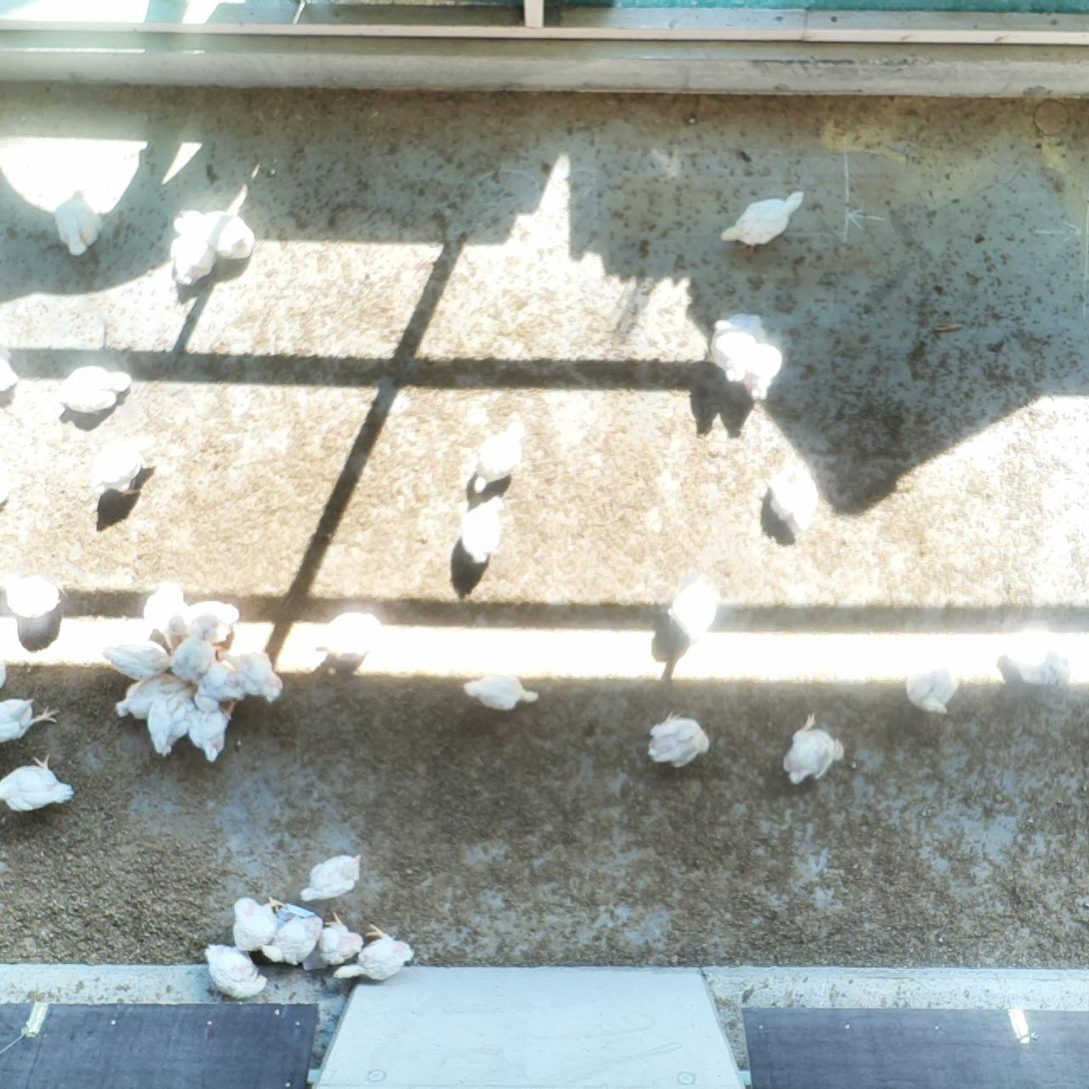chicken: (716, 188, 810, 257), (696, 308, 770, 387), (331, 921, 416, 984), (761, 455, 824, 536), (779, 711, 846, 786), (88, 432, 159, 500), (904, 640, 965, 718), (0, 752, 76, 813), (185, 203, 258, 262), (145, 679, 198, 760), (311, 610, 385, 667), (301, 911, 366, 975), (645, 708, 712, 770), (472, 420, 527, 495), (201, 942, 269, 1002), (216, 645, 286, 703), (58, 363, 134, 416), (665, 570, 720, 643), (258, 913, 326, 972), (1, 568, 73, 621), (167, 215, 218, 289), (114, 672, 186, 724), (53, 187, 104, 259), (742, 327, 789, 405), (188, 694, 239, 764), (231, 893, 289, 954), (100, 636, 172, 684), (459, 495, 506, 567), (463, 671, 540, 714), (301, 852, 365, 903), (140, 580, 191, 644), (0, 697, 61, 746), (184, 598, 241, 645), (202, 659, 245, 721), (169, 633, 220, 685), (1014, 648, 1073, 687), (0, 342, 21, 395), (0, 476, 18, 510), (803, 674, 810, 675)
